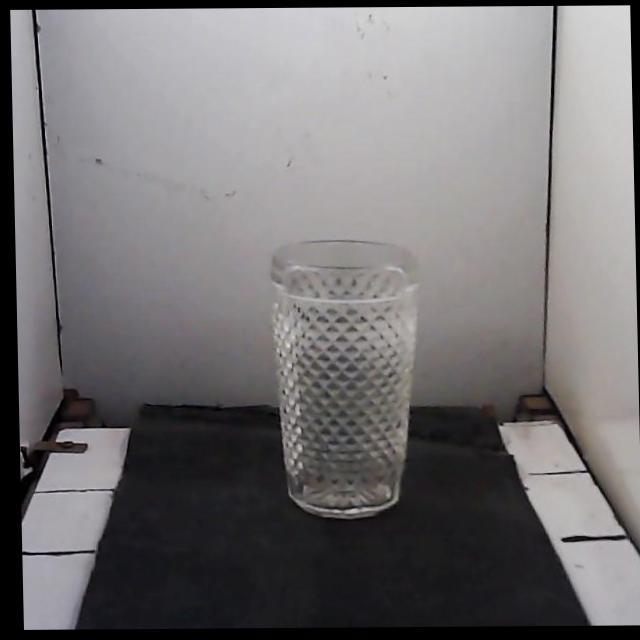vidro: (271, 240, 417, 518)
